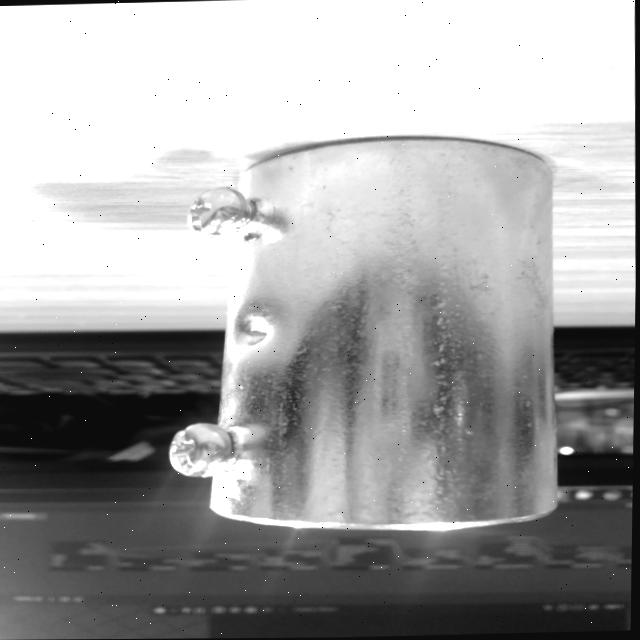Co_Nho: (160, 136, 558, 534)
